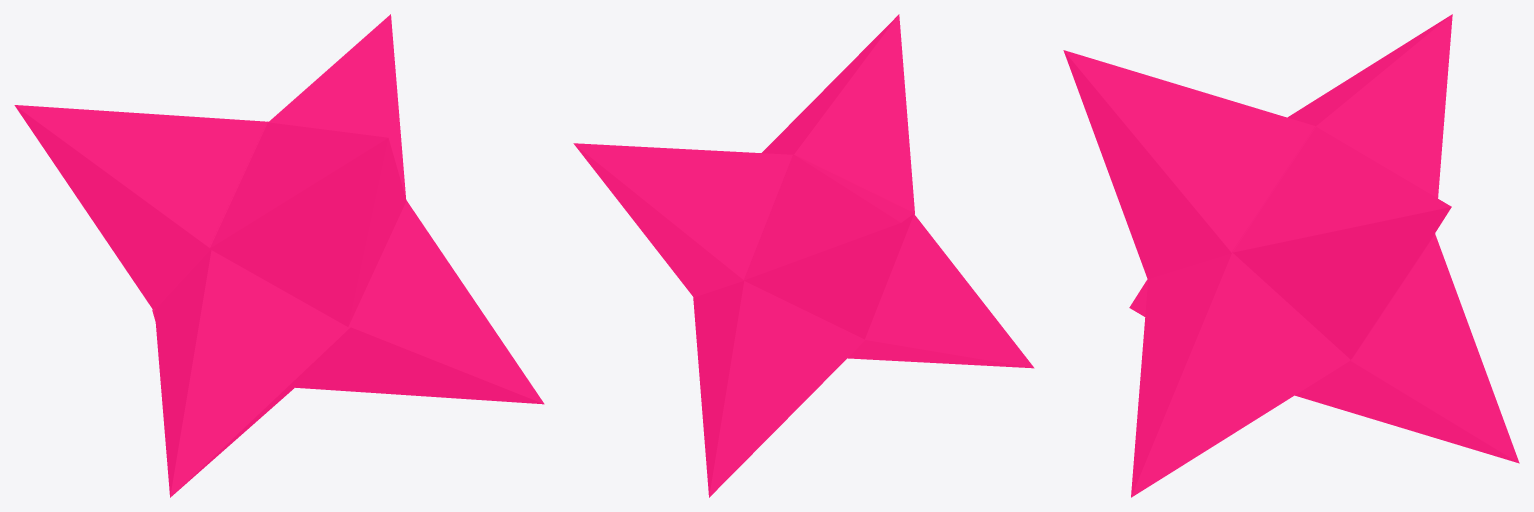
The model's file is Star.glb.
3 views of the same model, side by side, from view 1: azimuth 30°, elevation 25°; view 2: azimuth 150°, elevation 25°; view 3: azimuth 270°, elevation 25° (orthographic). The views are drawn at different scales.
Parts seen in each view (by area): view 1: Star; view 2: Star; view 3: Star.
Boxes of the visible parts, x1,y1,x2,y2 form: Star: (14,14,544,497); Star: (573,14,1034,497); Star: (1063,14,1519,497).
Size of the model in its own units: 5.45 by 5.46 by 5.46.
